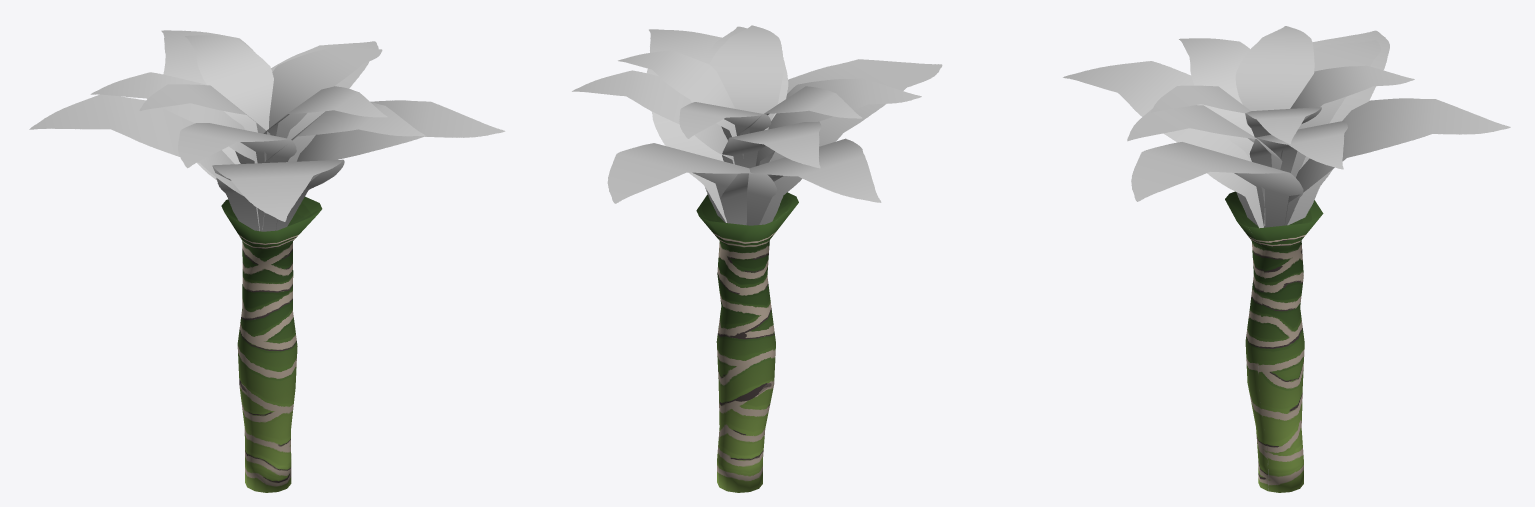
The model's file is Model_Bush01_MedianStatic.fbx.
The picture shows the model from 3 angles, left to right: view 1: azimuth 30°, elevation 25°; view 2: azimuth 150°, elevation 25°; view 3: azimuth 270°, elevation 25°; orthographic projection.
Parts seen in each view (by area): view 1: Cylinder.056; view 2: Cylinder.056; view 3: Cylinder.056.
Part boxes in pixels (x1=…): Cylinder.056: x1=29, y1=30, x2=505, y2=492; Cylinder.056: x1=572, y1=25, x2=942, y2=492; Cylinder.056: x1=1063, y1=26, x2=1510, y2=492.
Size of the model in its own units: 101 by 89.88 by 101.
